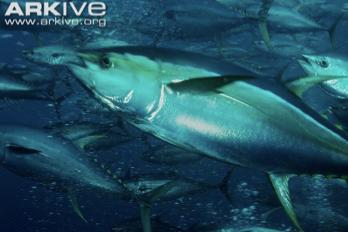Scombridae -Tunas-: (60, 40, 348, 232)
